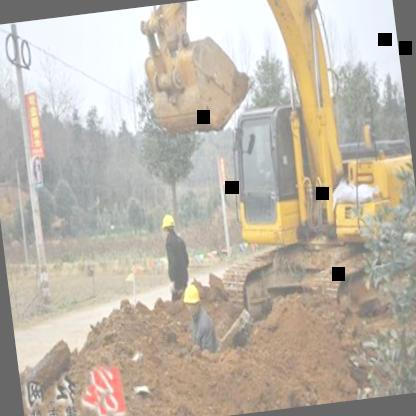helmet: (180, 281, 202, 318), (160, 212, 176, 240)
